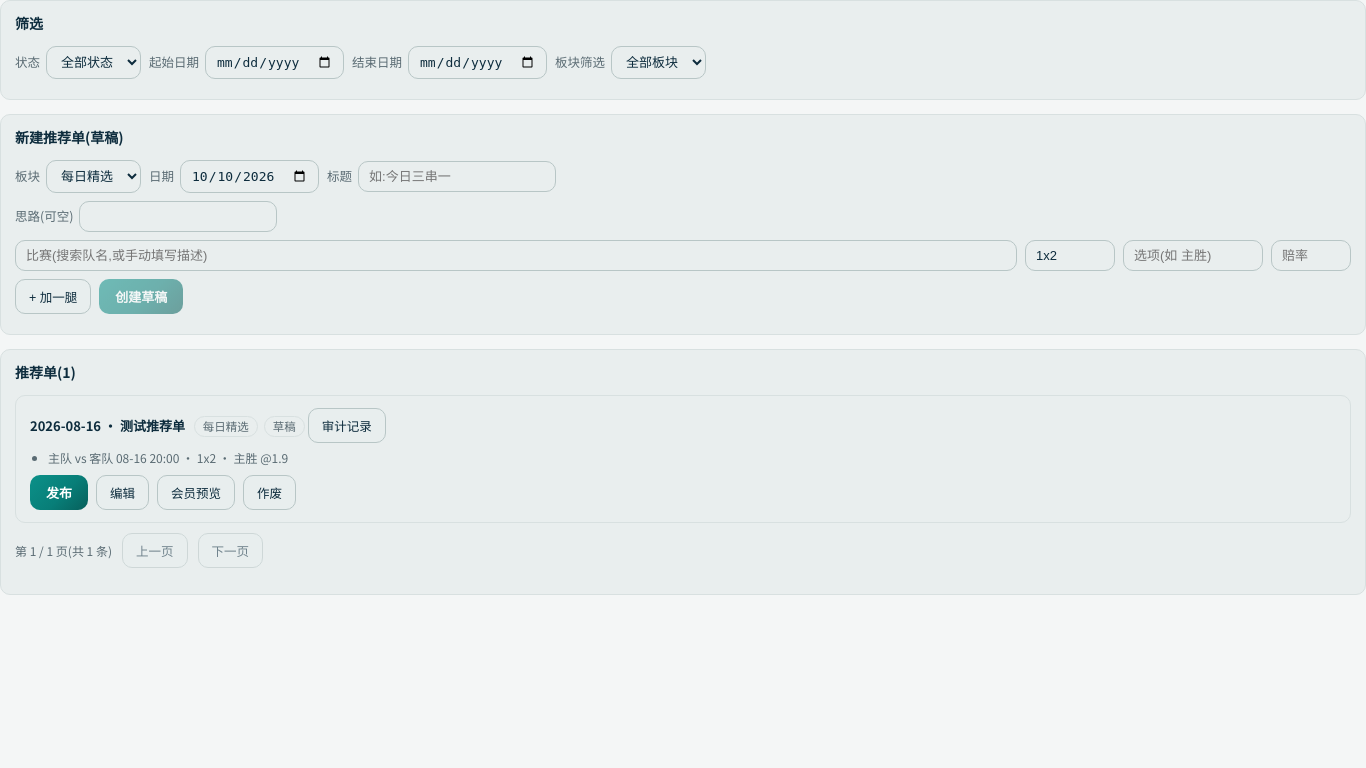
发布二次确认(站内面板,2026-08-19 起不再用 window.confirm) › 点"取消"就地收起面板,不发请求(与既有作废/结算面板同一套交互)
Expected: the text "2026-08-16 · 测试推荐单" is shown, [30, 416, 185, 435]
Click the button "发布" at (59,492), box [30, 475, 88, 510]
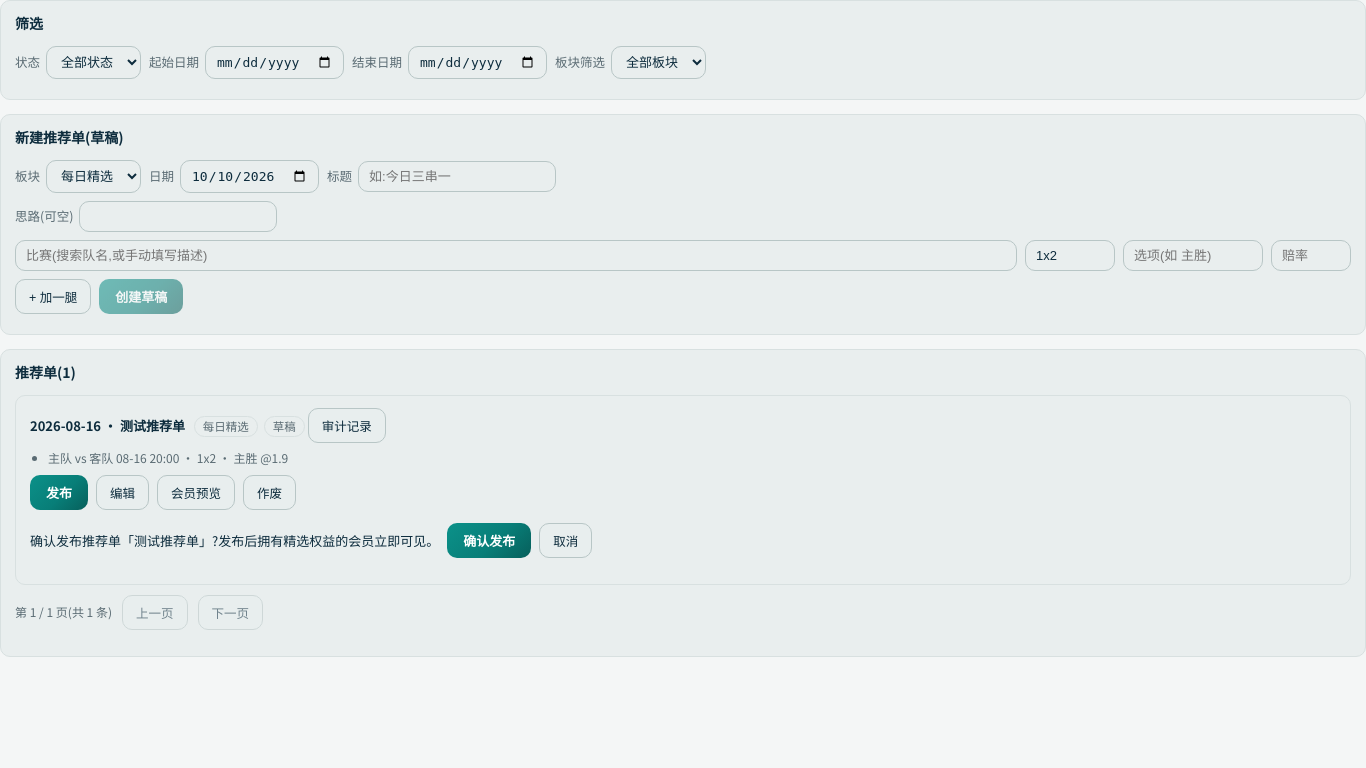
Now the text "确认发布推荐单「测试推荐单」?发布后拥有精选权益的会员立即可见。" is shown, box [30, 531, 439, 550]
Click the button "取消" at (566,541), box [539, 523, 592, 558]
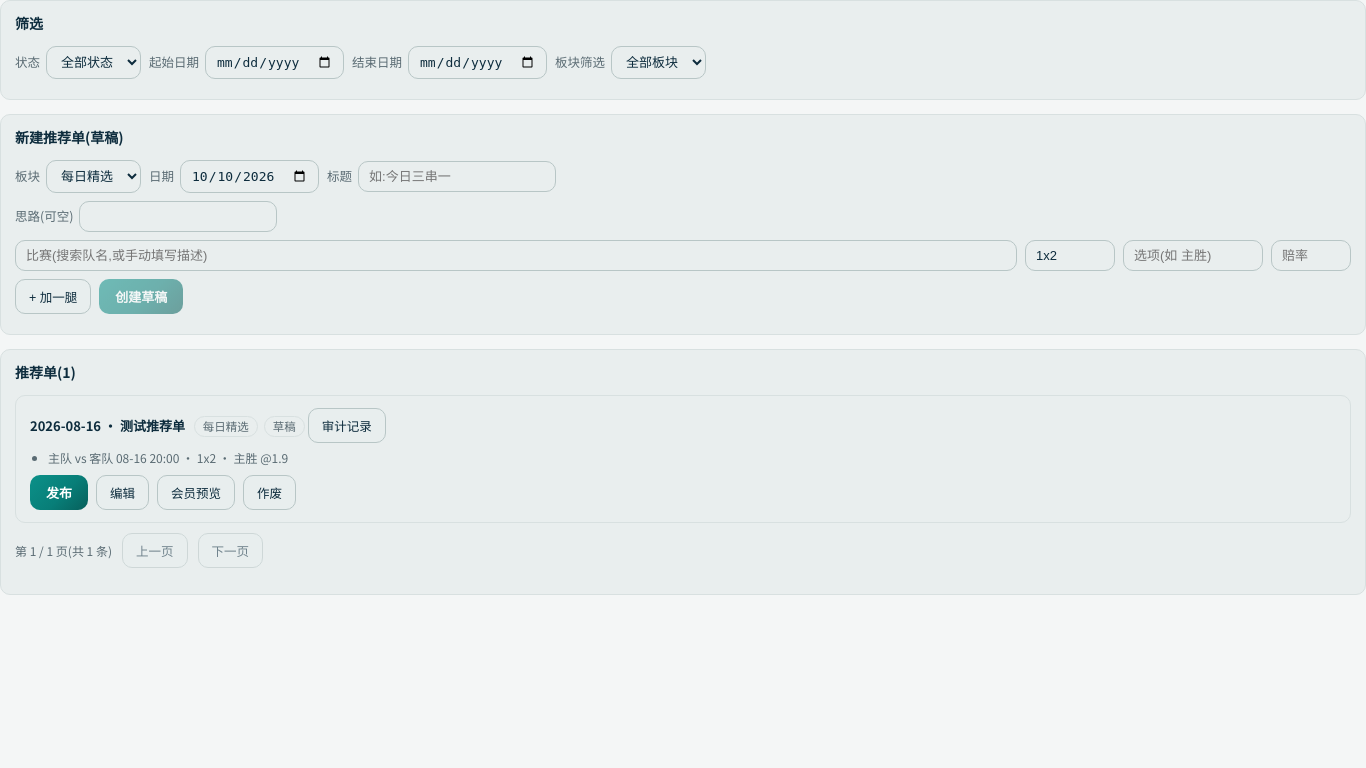
Now the text "确认发布推荐单" is gone
